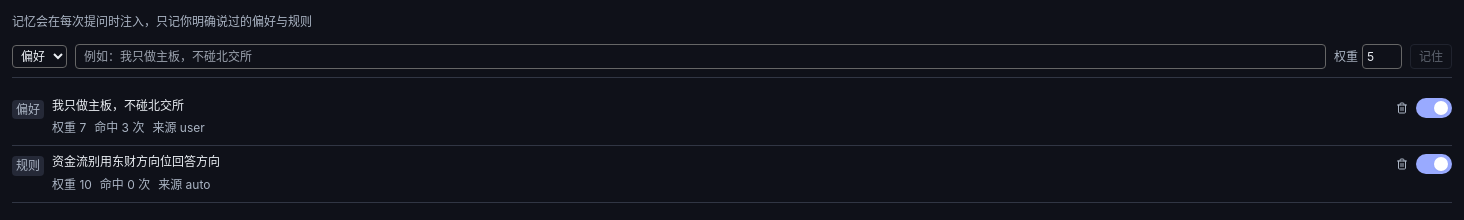
Test: MemoryPanel › 删除：先二次确认，确认后才调 DELETE
Expected: the number of list items with test id "memory-row" is 2, [12, 90, 1452, 146]; [12, 146, 1452, 203]
Click the 1st button with test id "memory-delete" at x=1402, y=108, box [1392, 98, 1412, 118]
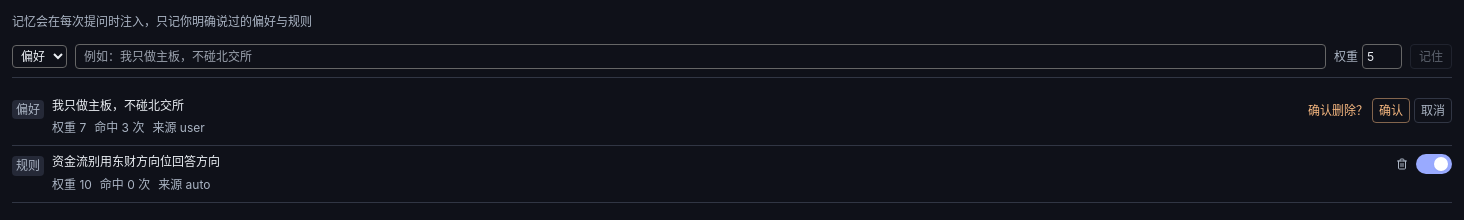
Expected: the button with test id "memory-delete-confirm" is shown
Click the button with test id "memory-delete-confirm" at x=1391, y=110, box [1372, 98, 1410, 123]
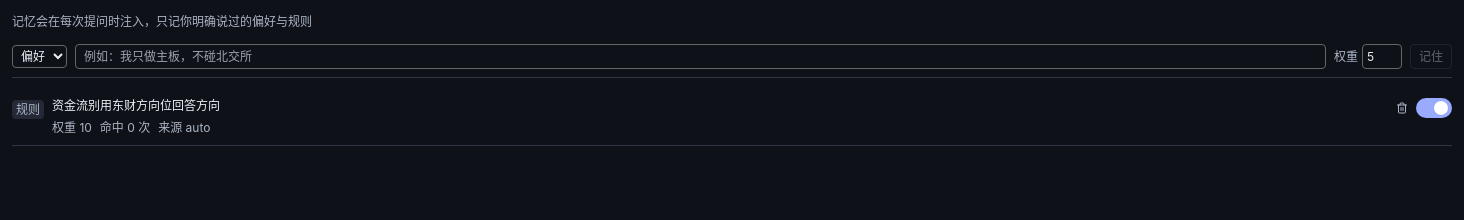
Expected: the number of list items with test id "memory-row" is 1, [12, 90, 1452, 146]
